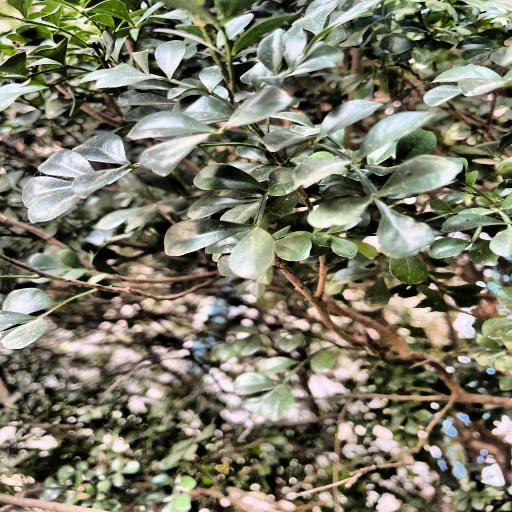la xanh: (93, 61, 431, 248)
